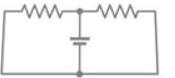resistor: (88, 0, 143, 22), (18, 1, 67, 20)
